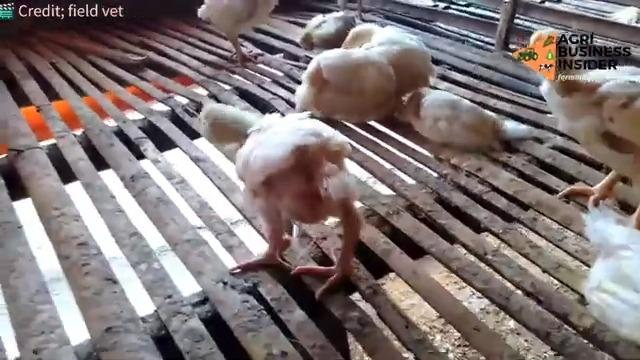AbNormal: (200, 106, 366, 292)
